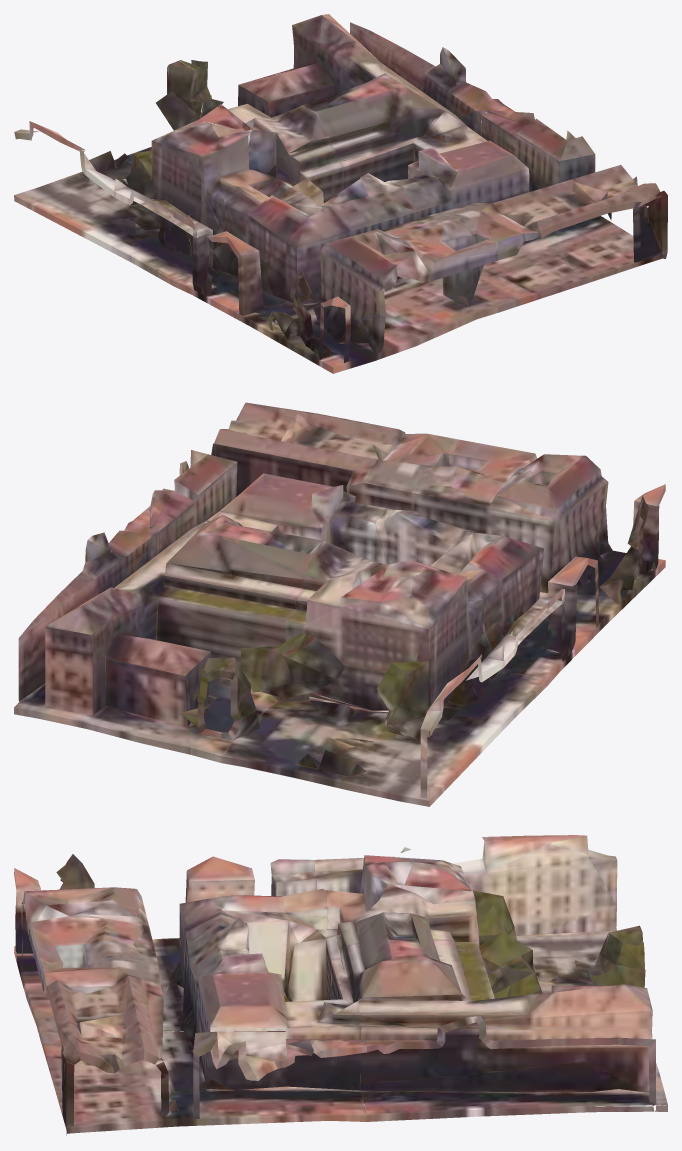
3 renders of one model, top to bottom at view 1: azimuth 30°, elevation 25°; view 2: azimuth 150°, elevation 25°; view 3: azimuth 270°, elevation 25°, orthographic. The views are drawn at different scales.
Visible parts, largest first — view 1: Mesh_0; view 2: Mesh_0; view 3: Mesh_0.
Boxes of the visible parts, x1=… form: Mesh_0: x1=14, y1=14, x2=667, y2=373; Mesh_0: x1=14, y1=402, x2=665, y2=806; Mesh_0: x1=14, y1=835, x2=667, y2=1135.
Size of the model in its own units: 135 by 36.93 by 165.
Materials: 1 (1 with a texture image).
